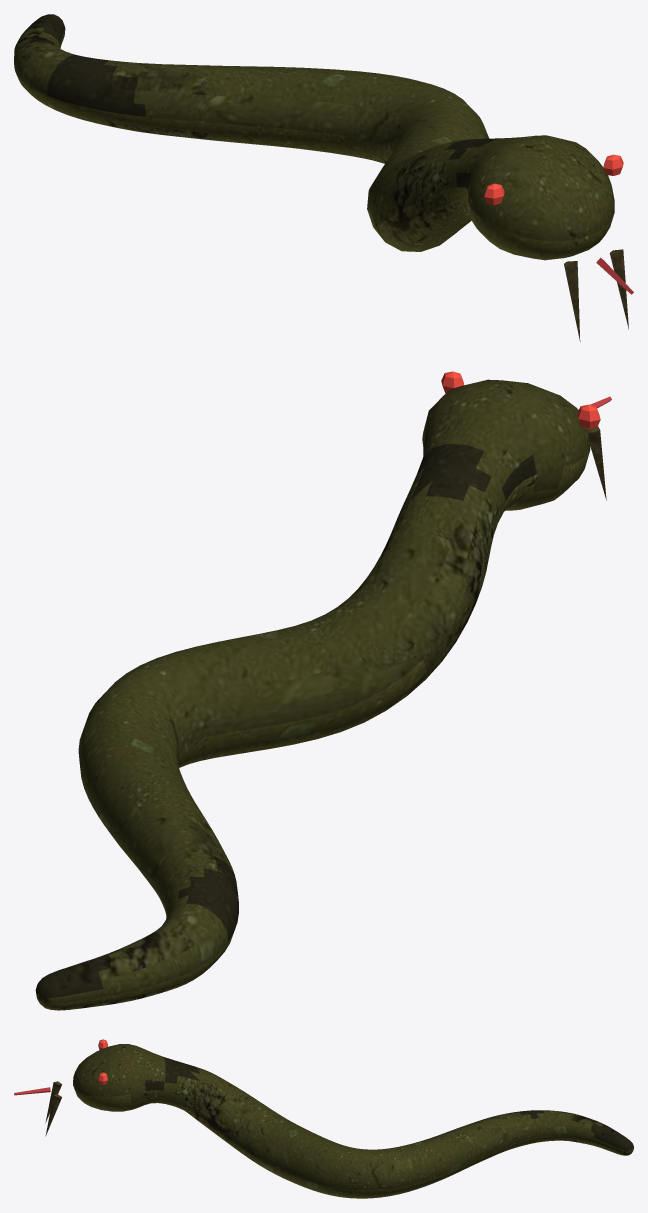
Rendered from mon_serp_01.glb.
3 renders of one model, top to bottom at view 1: azimuth 30°, elevation 25°; view 2: azimuth 150°, elevation 25°; view 3: azimuth 270°, elevation 25°, orthographic. The views are drawn at different scales.
Parts seen in each view (by area): view 1: mon_serp_01; view 2: mon_serp_01; view 3: mon_serp_01.
Boxes of the visible parts, x1=… form: mon_serp_01: x1=14, y1=14, x2=633, y2=341; mon_serp_01: x1=35, y1=371, x2=611, y2=1010; mon_serp_01: x1=14, y1=1039, x2=633, y2=1198.
Size of the model in its own units: 0.4719 by 0.3519 by 1.64.
6 materials, 6 textured.
